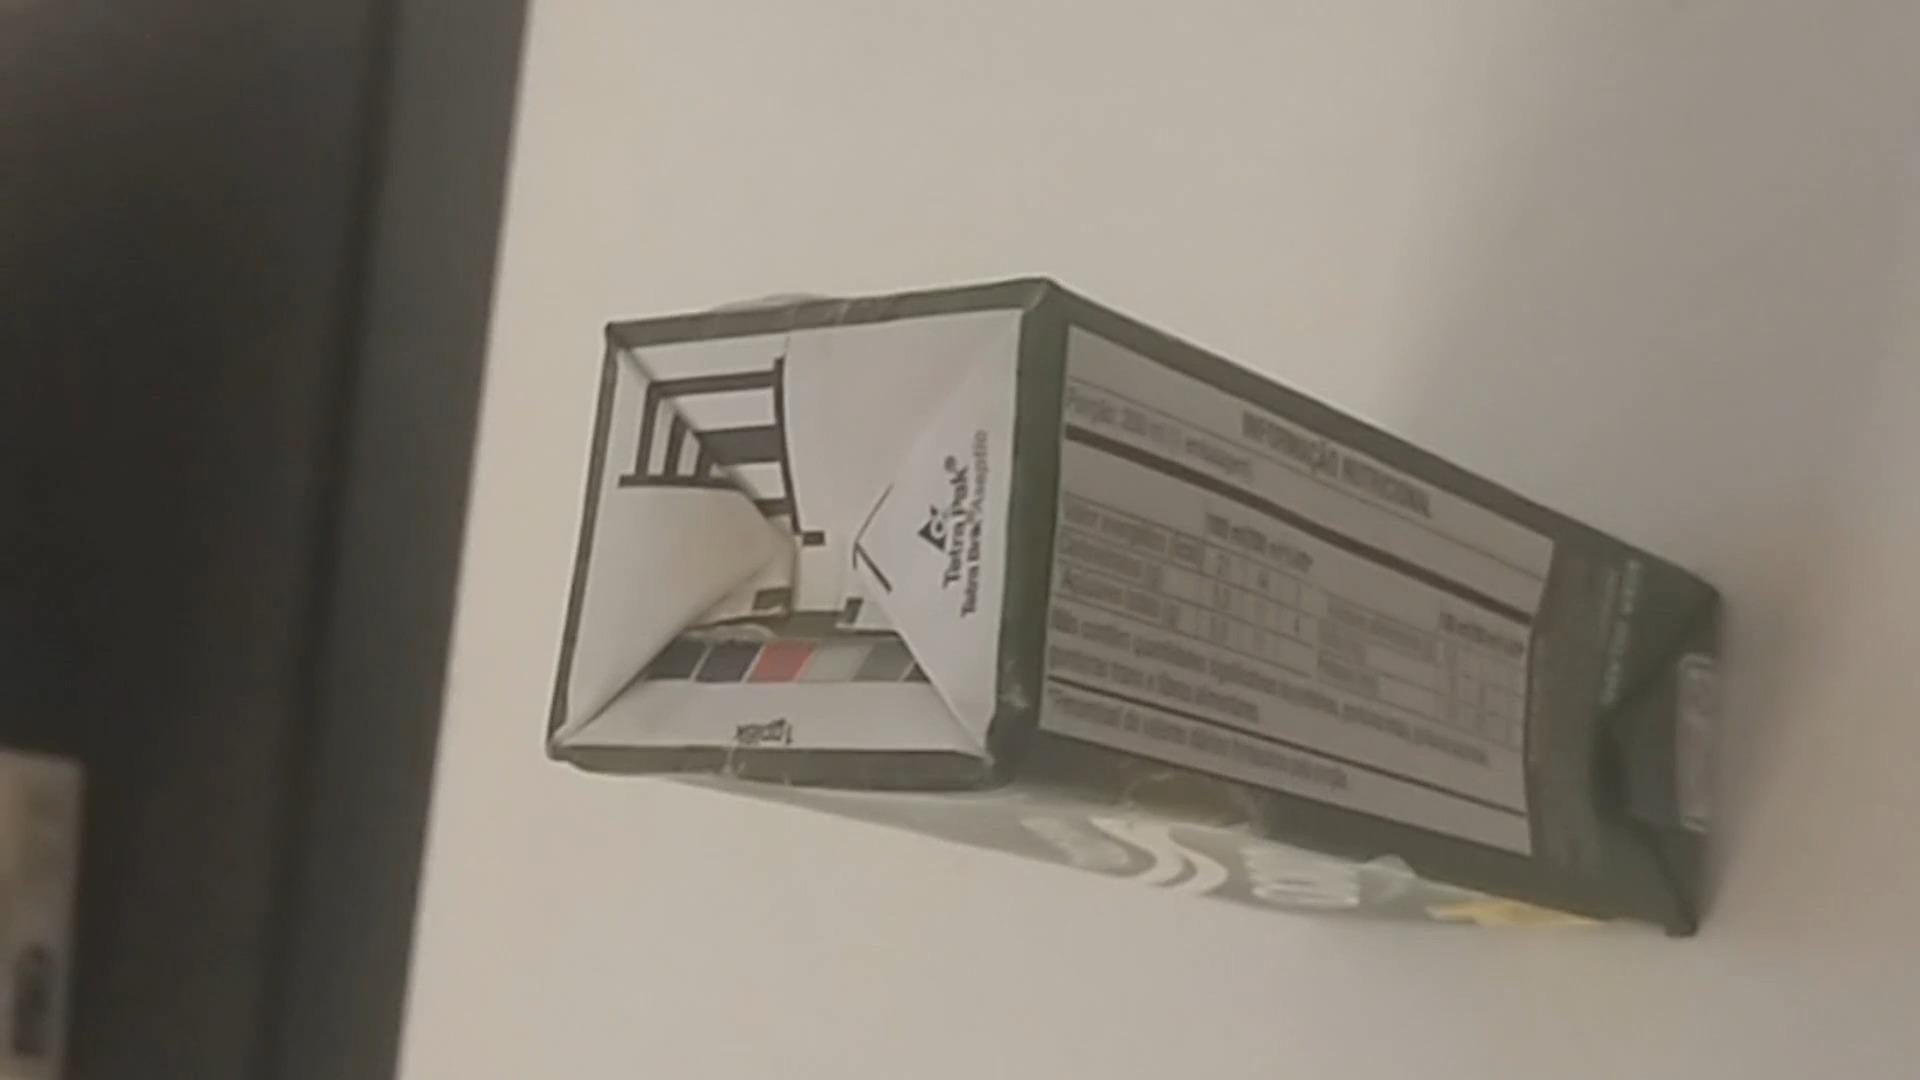coco: (522, 257, 1730, 972)
